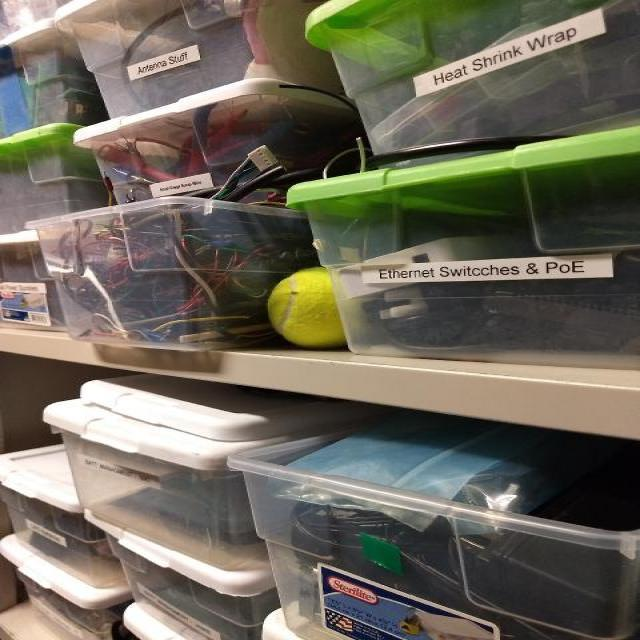tennis-ball: (265, 267, 323, 349)
